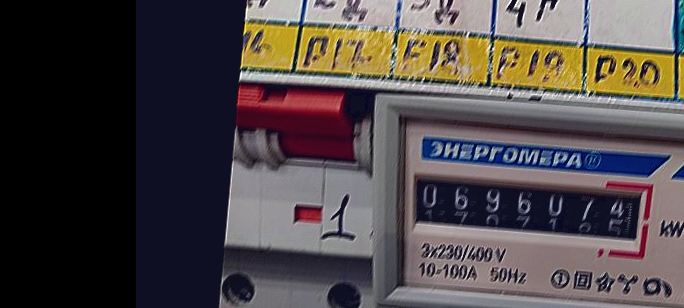0: (422, 180, 443, 207), (548, 189, 568, 216)
4: (611, 194, 629, 217)
5: (609, 216, 626, 238)
6: (516, 186, 537, 215), (454, 182, 474, 209)
7: (580, 193, 598, 220)
9: (486, 184, 504, 212)
screen: (401, 159, 660, 261)
